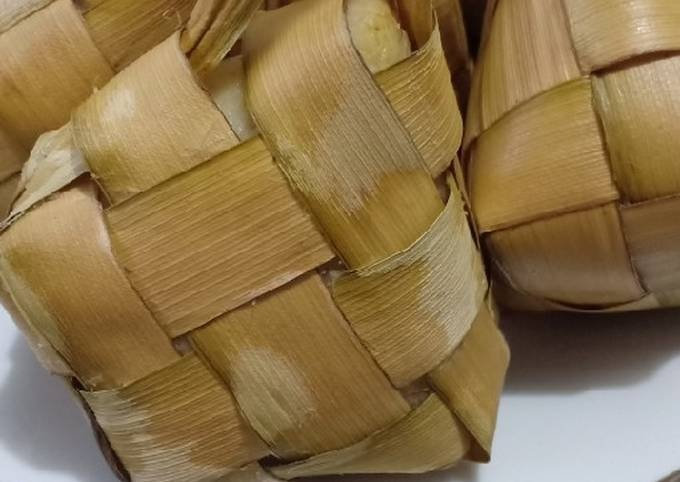ketupat: (0, 1, 510, 480)
